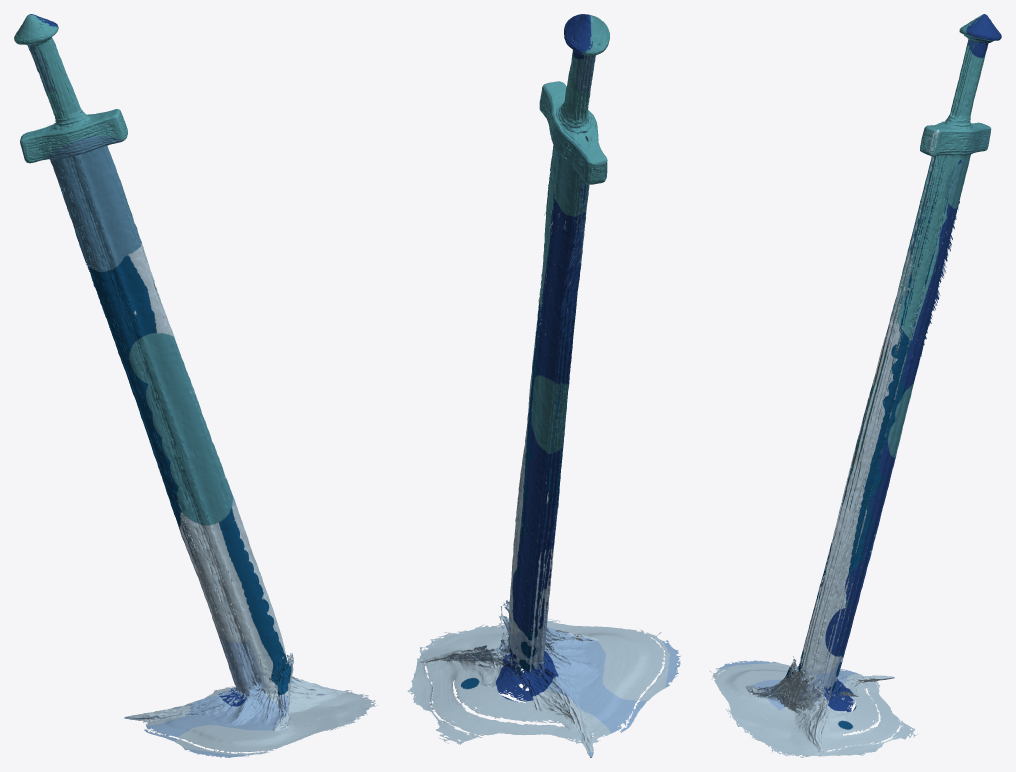
Rendered from sword.glb.
The picture shows the model from 3 angles, left to right: view 1: azimuth 30°, elevation 25°; view 2: azimuth 150°, elevation 25°; view 3: azimuth 270°, elevation 25°; orthographic projection. The views are drawn at different scales.
Size of the model in its own units: 0.5784 by 1.48 by 0.6068.
